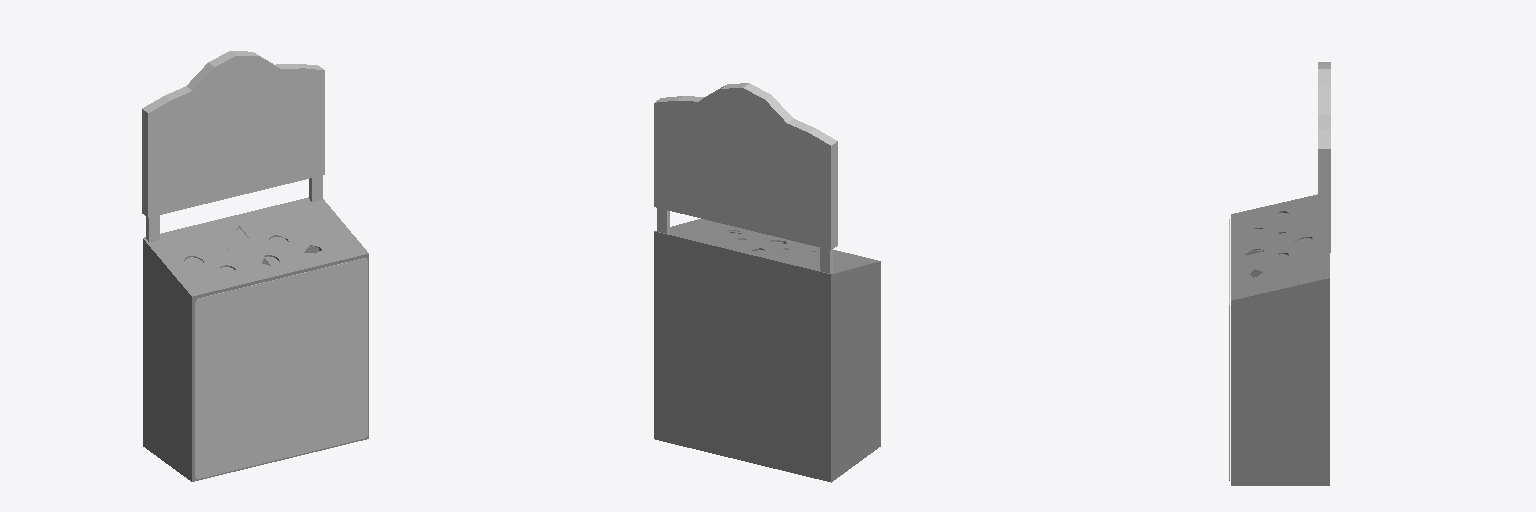
File: WhackAMole.obj
3 views of the same model, side by side, from view 1: azimuth 30°, elevation 25°; view 2: azimuth 150°, elevation 25°; view 3: azimuth 270°, elevation 25° (orthographic).
Visible parts, largest first — view 1: Cube.001, Cube, Cube.004; view 2: Cube, Cube.004; view 3: Cube, Cube.004.
Boxes of the visible parts, x1,y1,x2,y2 form: Cube.001: [195, 258, 367, 478]; Cube: [143, 197, 368, 481]; Cube.004: [142, 51, 324, 217]; Cube: [654, 219, 880, 482]; Cube.004: [654, 83, 837, 249]; Cube: [1231, 194, 1329, 485]; Cube.004: [1318, 62, 1330, 252].
Size of the model in its own units: 20.9 by 42.02 by 10.35.